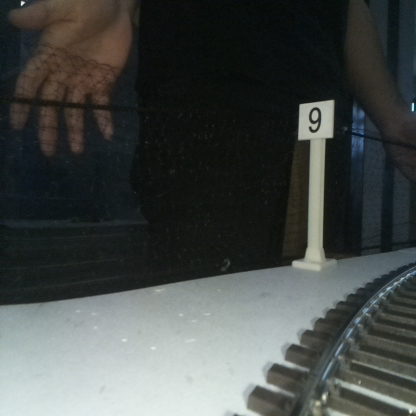white-info-9: (298, 101, 333, 266)
